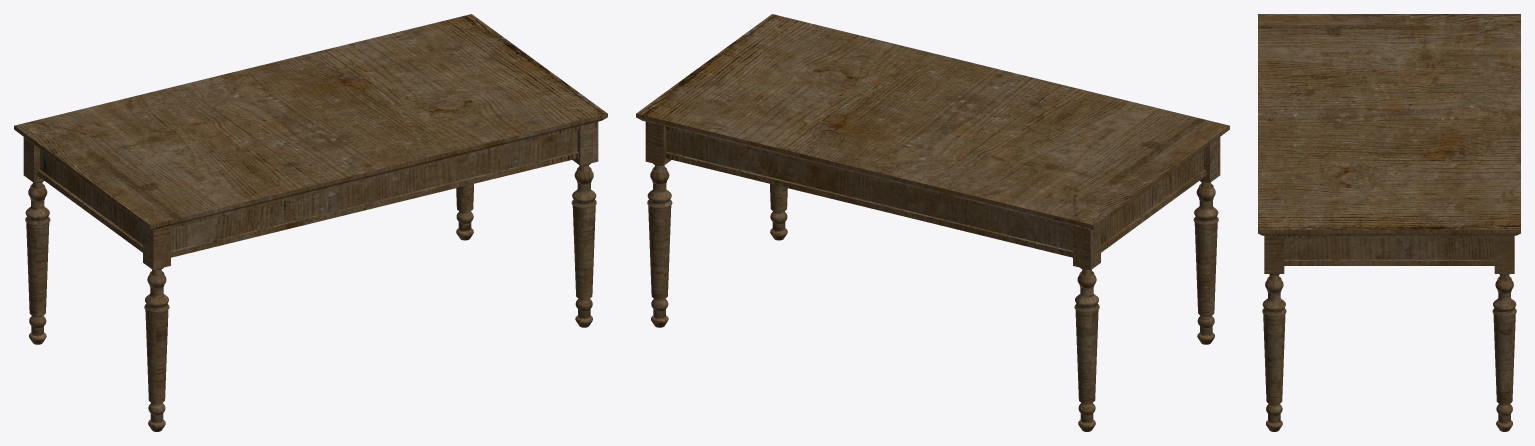
The model's file is oldTable.glb.
3 views of the same model, side by side, from view 1: azimuth 30°, elevation 25°; view 2: azimuth 150°, elevation 25°; view 3: azimuth 270°, elevation 25° (orthographic). The views are drawn at different scales.
Visible parts, largest first — view 1: Cube.149; view 2: Cube.149; view 3: Cube.149.
Part boxes in pixels (box(x1,y1,x2,y2)): Cube.149: box(14, 14, 607, 431); Cube.149: box(636, 14, 1229, 431); Cube.149: box(1258, 14, 1520, 431).
Size of the model in its own units: 2.3 by 1.03 by 1.18.
1 material, 1 textured.
